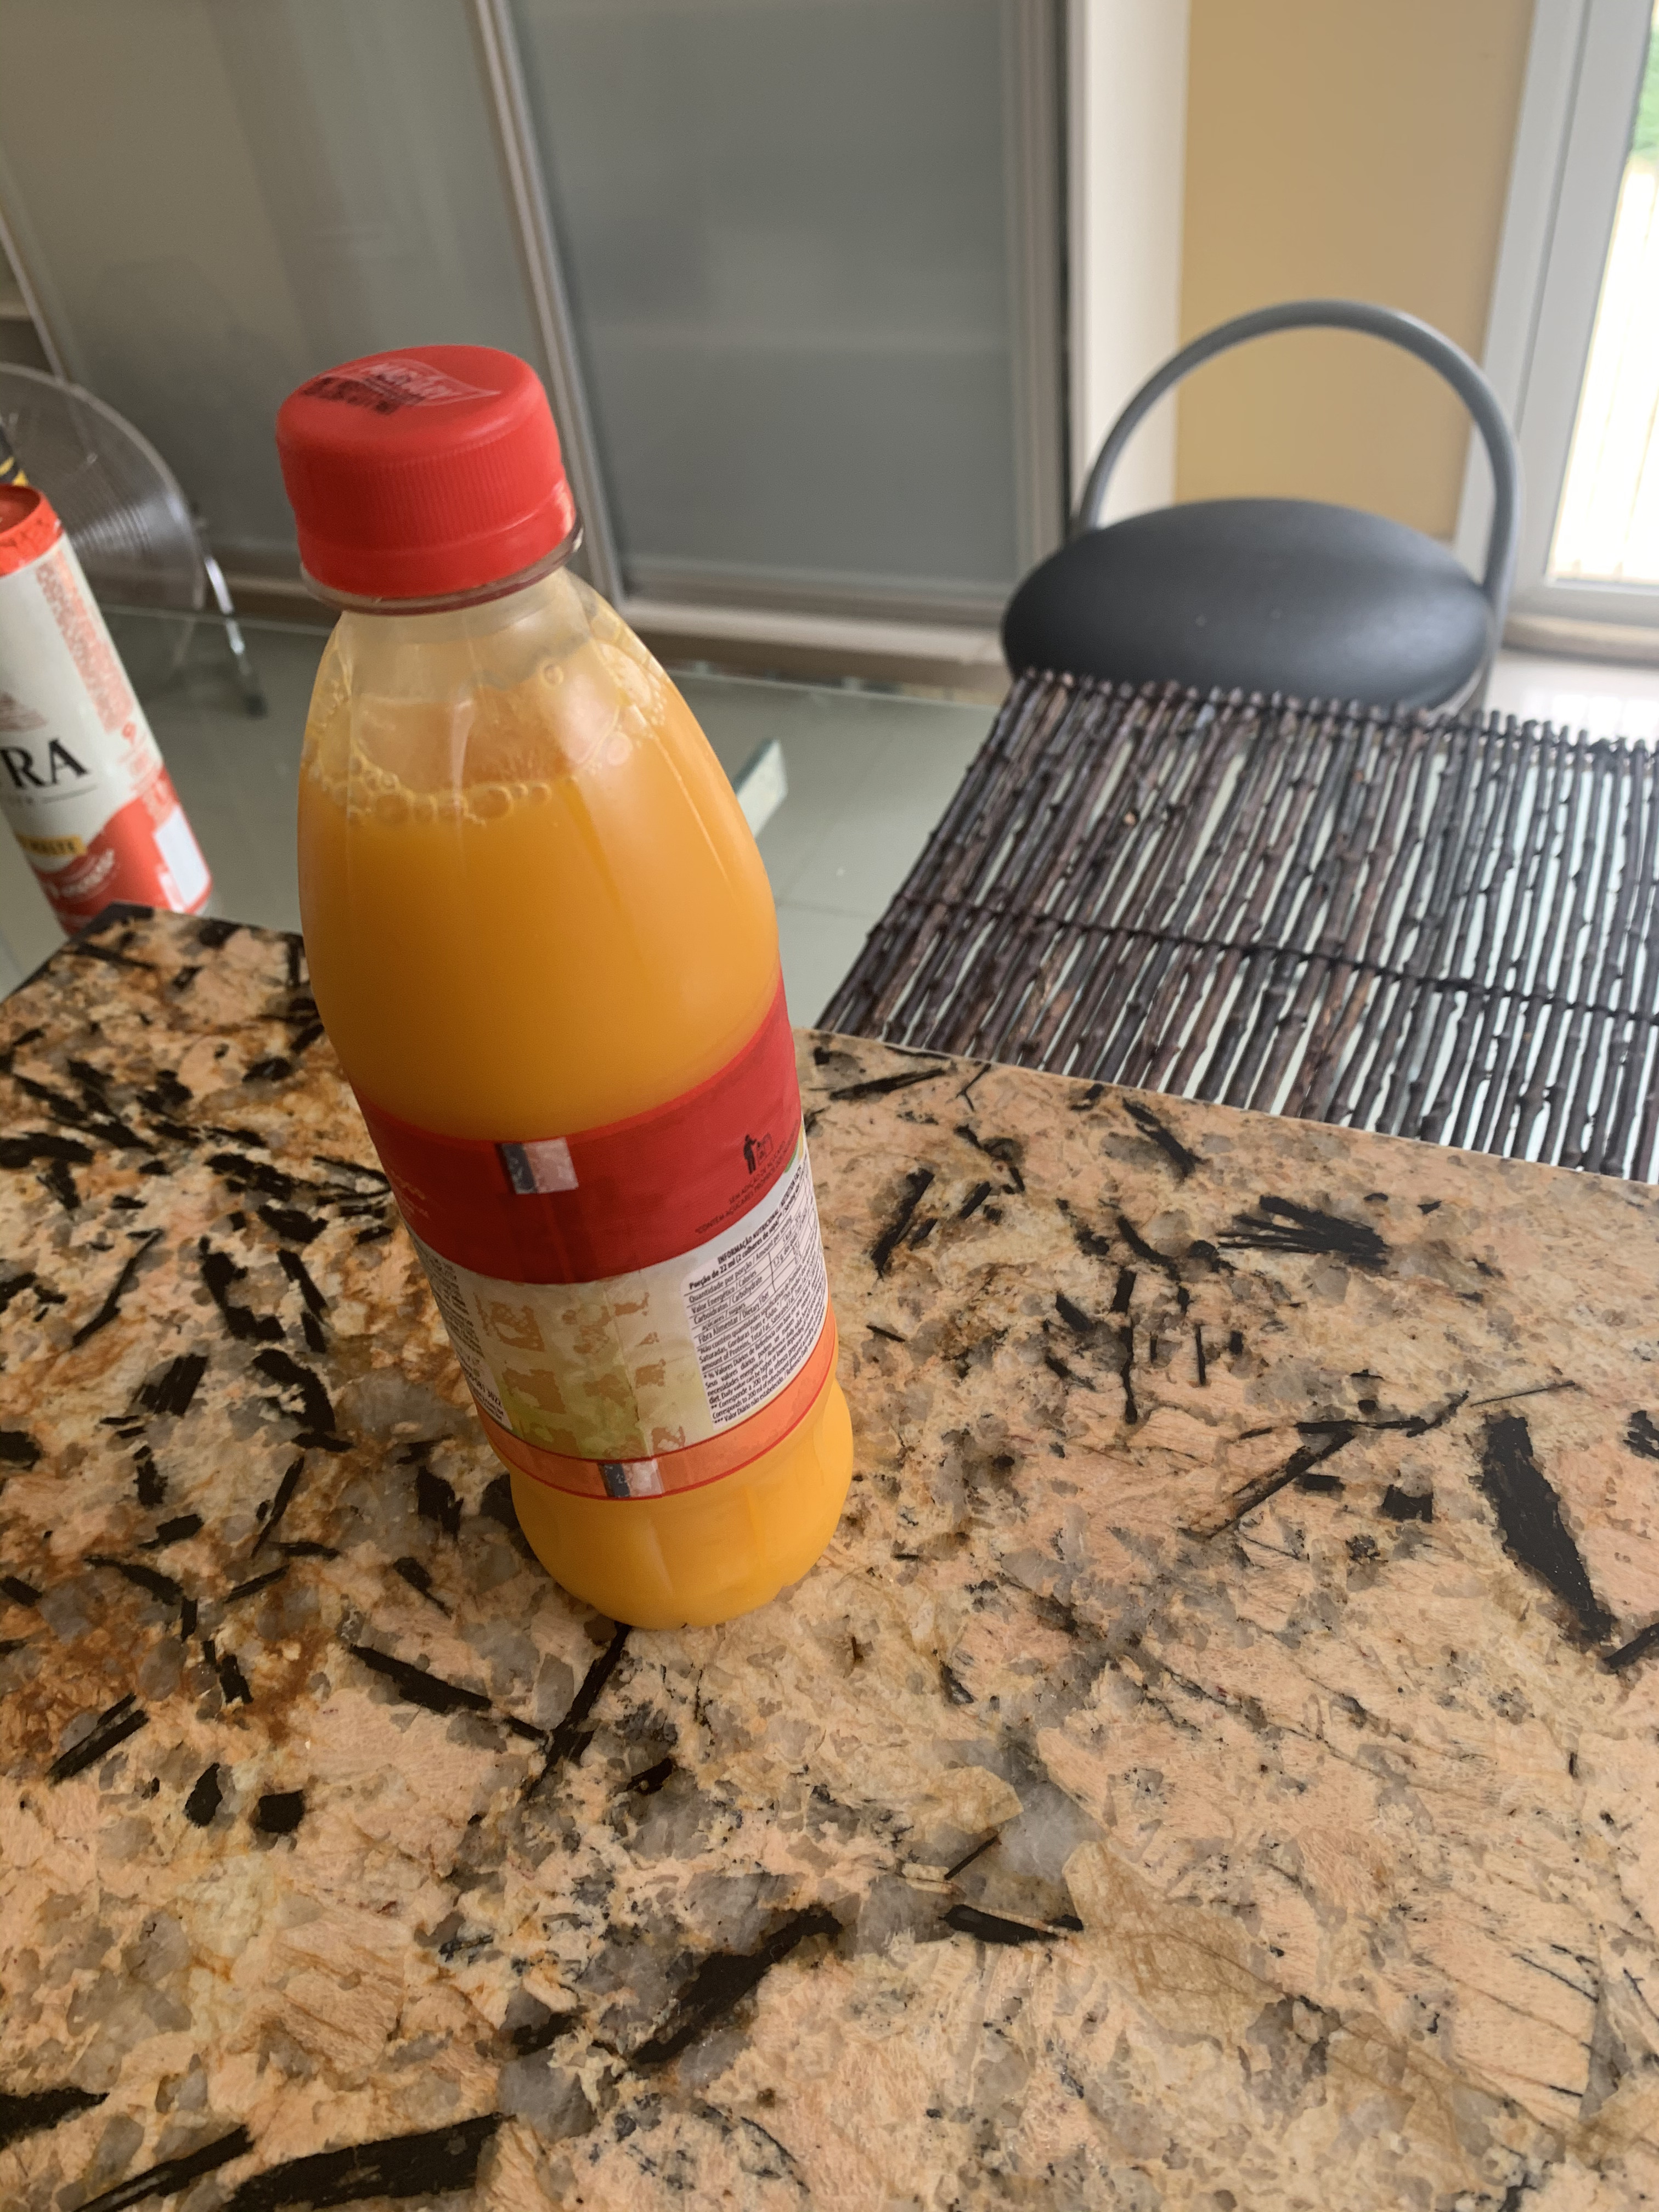maguary: (235, 366, 939, 1648)
